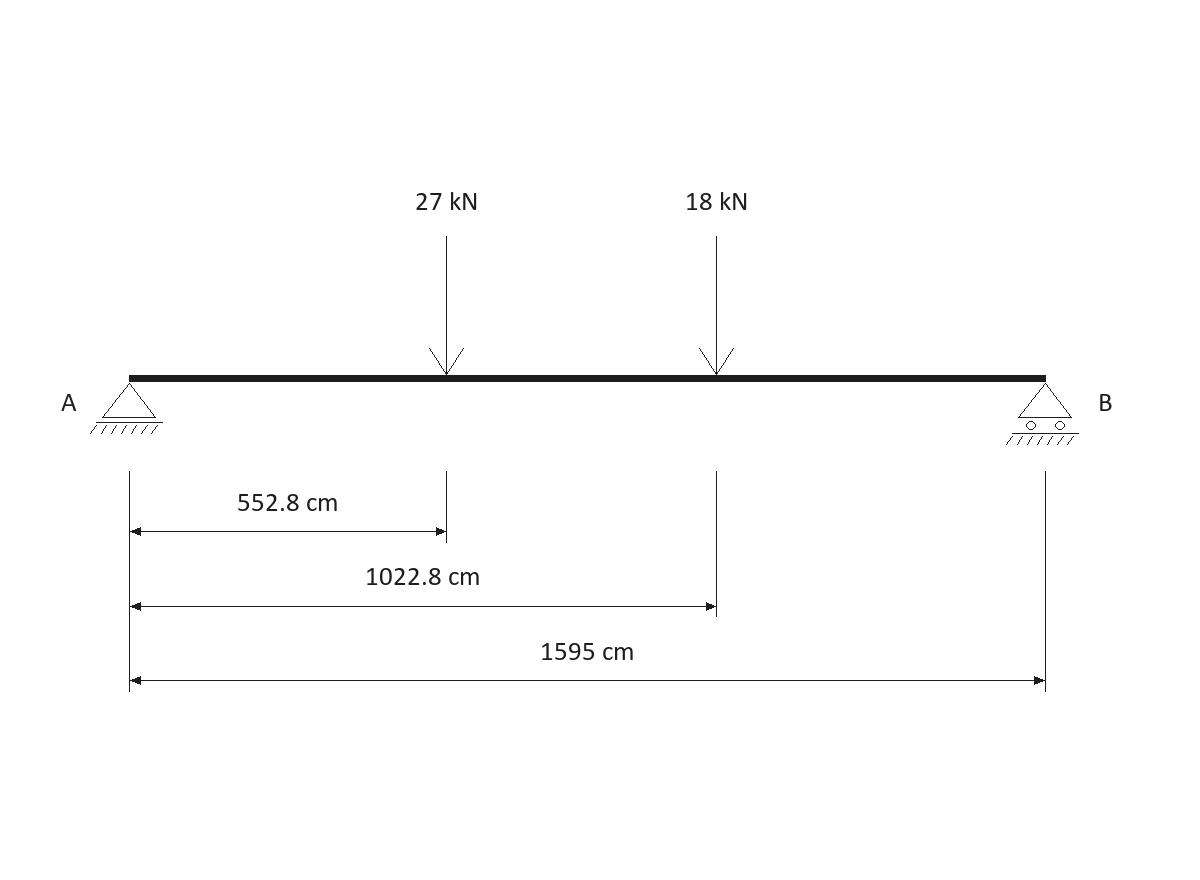pin_support: (90, 383, 163, 434)
point_load: (429, 236, 464, 375), (699, 236, 734, 375)
roller_support: (1006, 383, 1079, 445)
